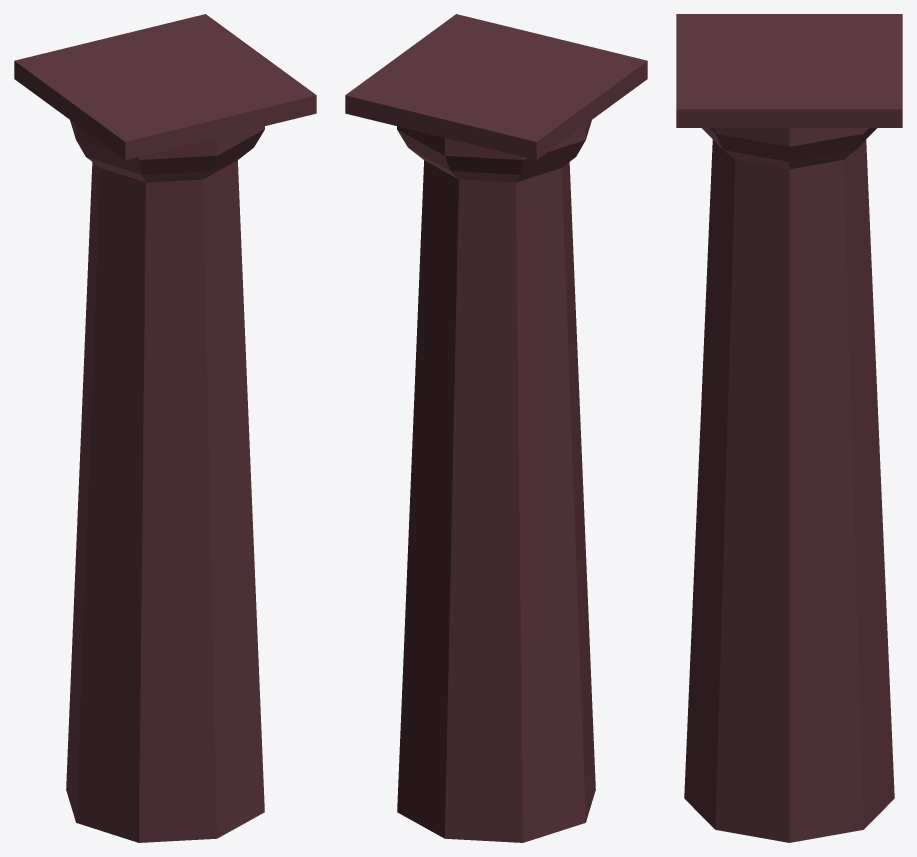
Rendered from empire-pillar-doric-small-empire.glb.
The picture shows the model from 3 angles, left to right: view 1: azimuth 30°, elevation 25°; view 2: azimuth 150°, elevation 25°; view 3: azimuth 270°, elevation 25°; orthographic projection.
Parts seen in each view (by area): view 1: SM_Pillar_Doric_Small_Empire; view 2: SM_Pillar_Doric_Small_Empire; view 3: SM_Pillar_Doric_Small_Empire.
Boxes of the visible parts, box(x1,y1,x2,y2) form: SM_Pillar_Doric_Small_Empire: box(14, 14, 316, 842); SM_Pillar_Doric_Small_Empire: box(345, 14, 647, 842); SM_Pillar_Doric_Small_Empire: box(676, 14, 902, 842).
Size of the model in its own units: 0.8316 by 3 by 0.8355.
